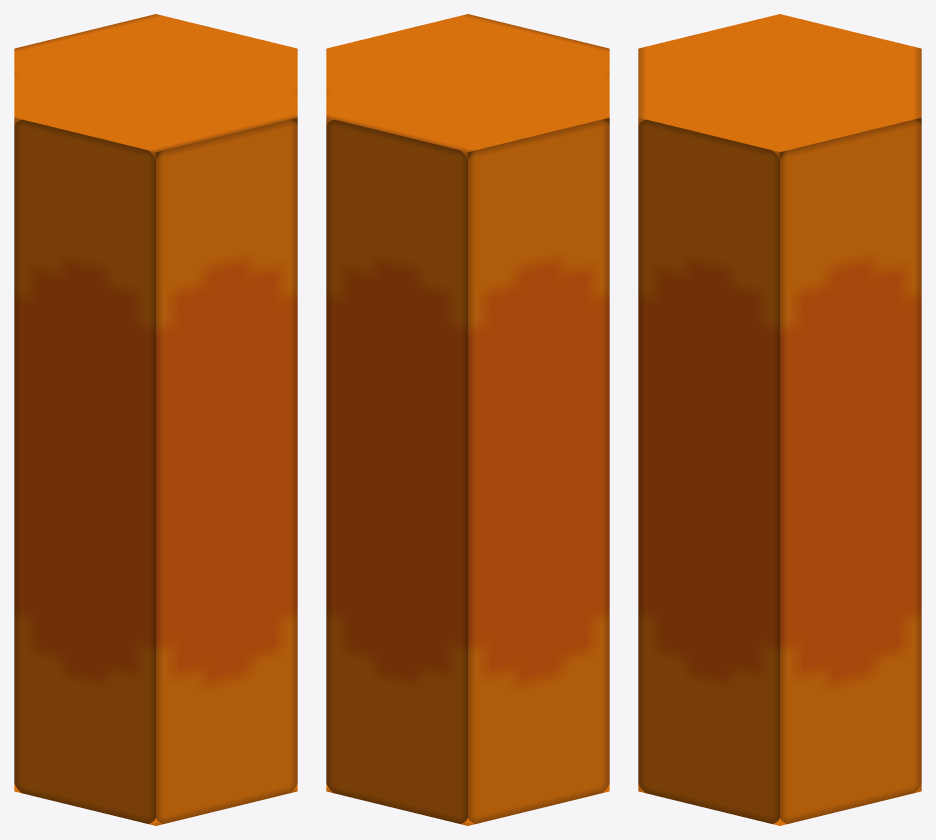
The model's file is ZeminAltiGen.fbx.
The picture shows the model from 3 angles, left to right: view 1: azimuth 30°, elevation 25°; view 2: azimuth 150°, elevation 25°; view 3: azimuth 270°, elevation 25°; orthographic projection.
Parts seen in each view (by area): view 1: cylinder; view 2: cylinder; view 3: cylinder.
Boxes of the visible parts, left/top/right/bottom form: cylinder: left=14, top=14, right=297, bottom=825; cylinder: left=326, top=14, right=609, bottom=825; cylinder: left=638, top=14, right=921, bottom=825.
Bounding box in the file's own units: 115 × 262 × 100.
1 material, 1 textured.
